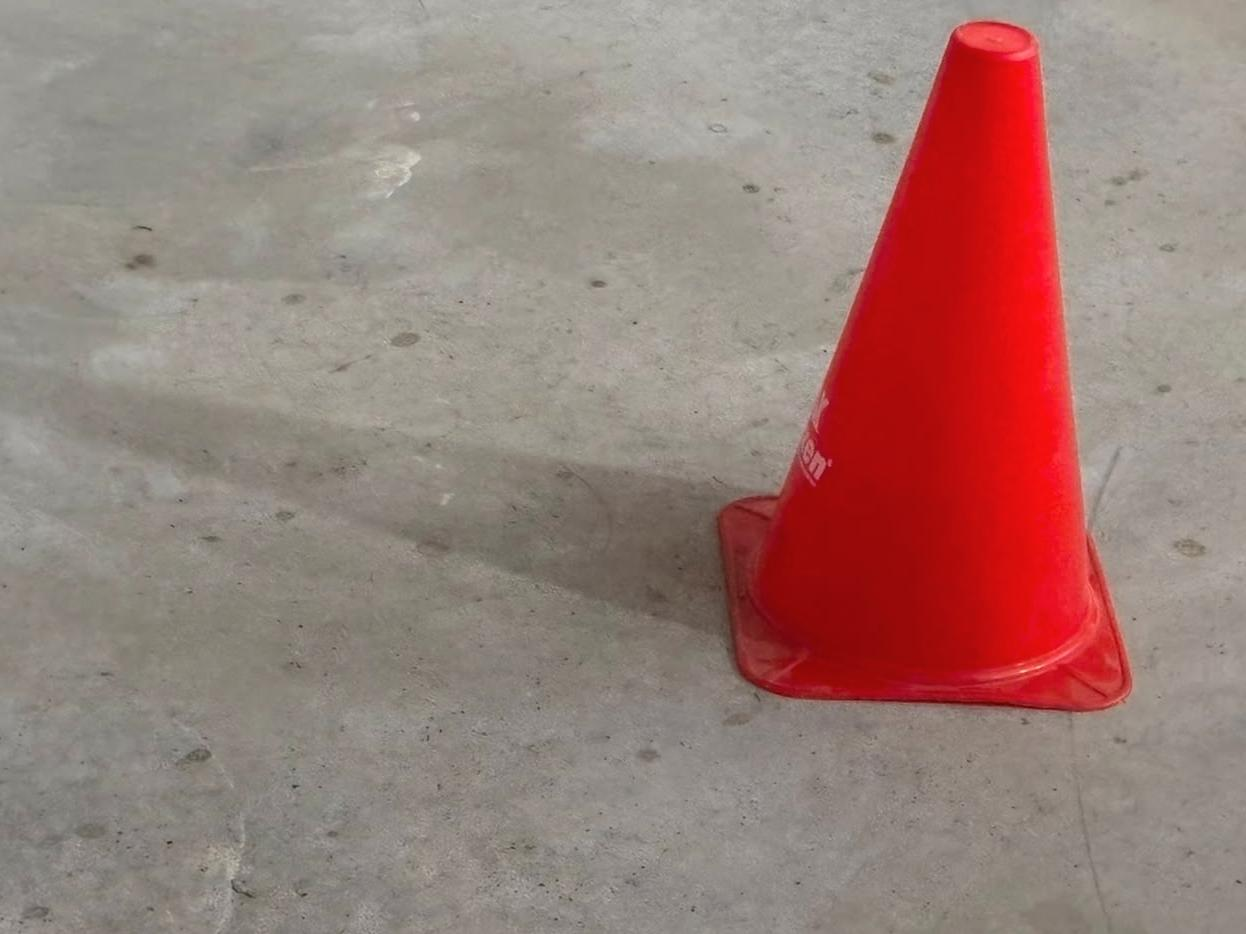0 cone: (717, 20, 1131, 711)
